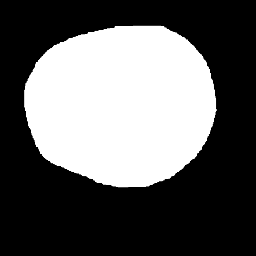mass: (28, 30, 215, 213)
